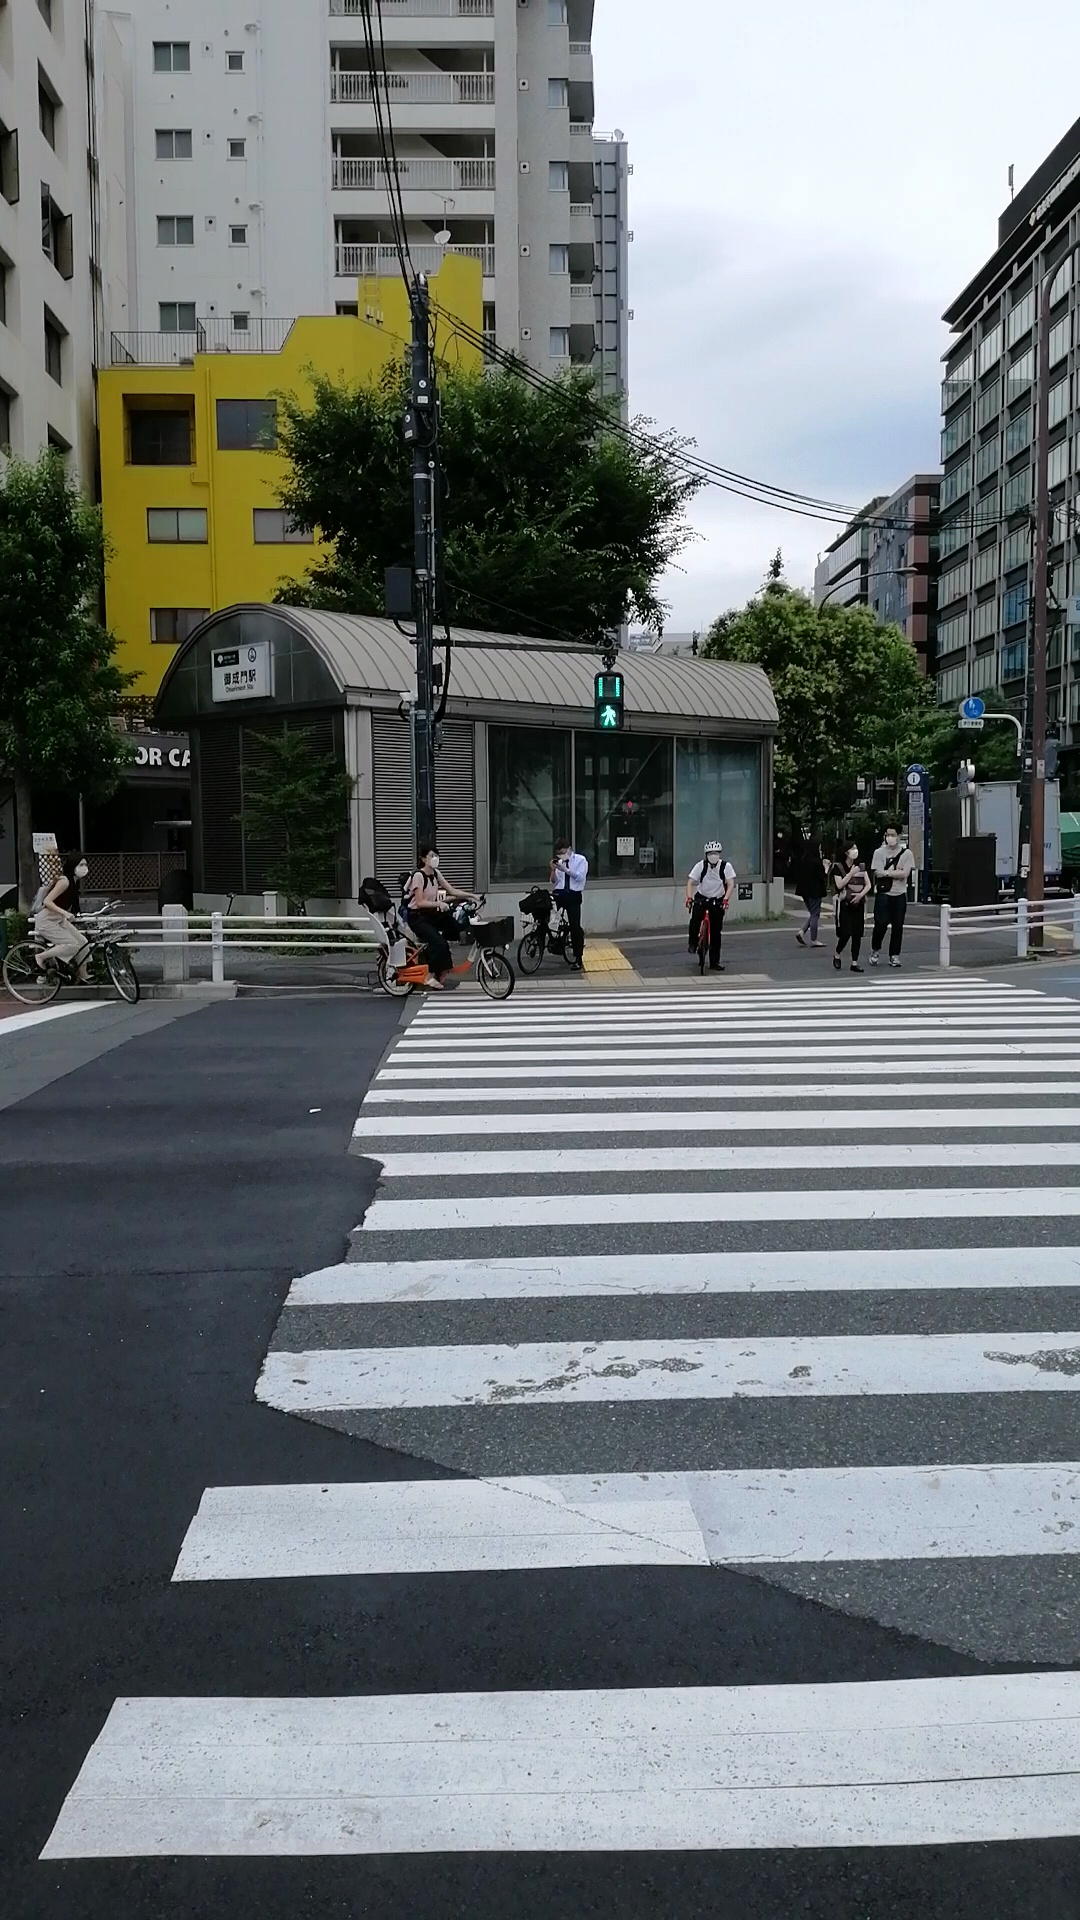green: (593, 673, 625, 731)
